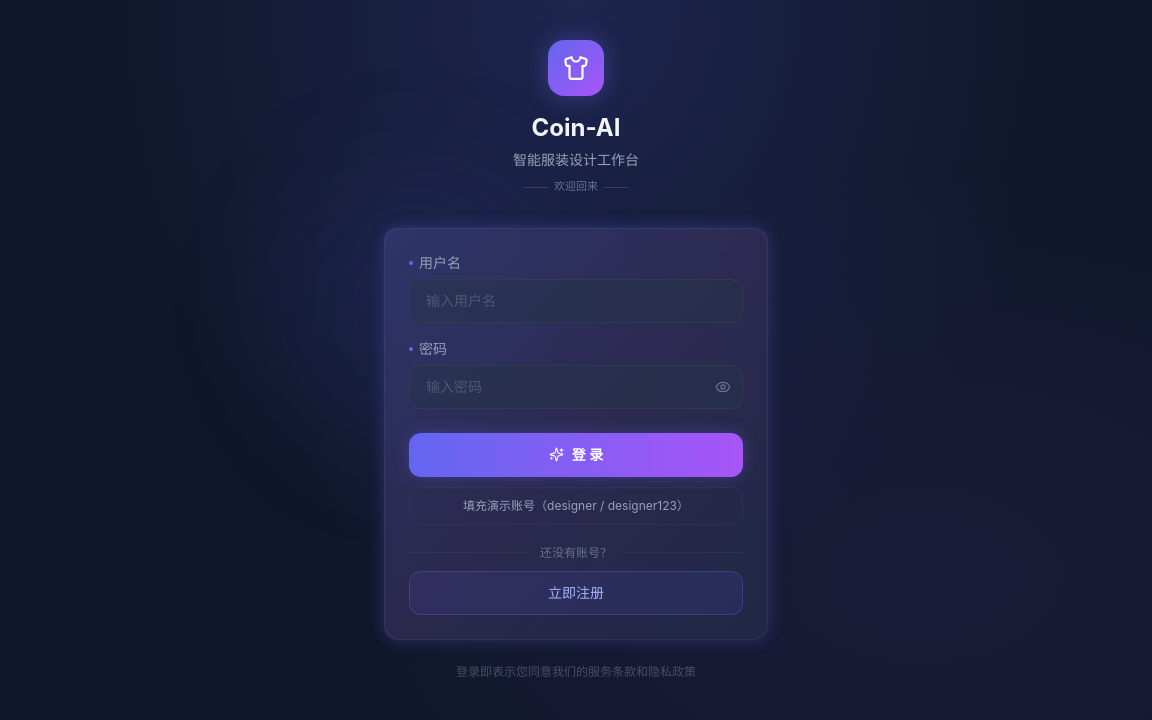
Test case: Login › fillDemo button populates fields with demo credentials
Click the button "填充演示账号（designer / designer123）" at (576, 506), box [409,487,743,525]
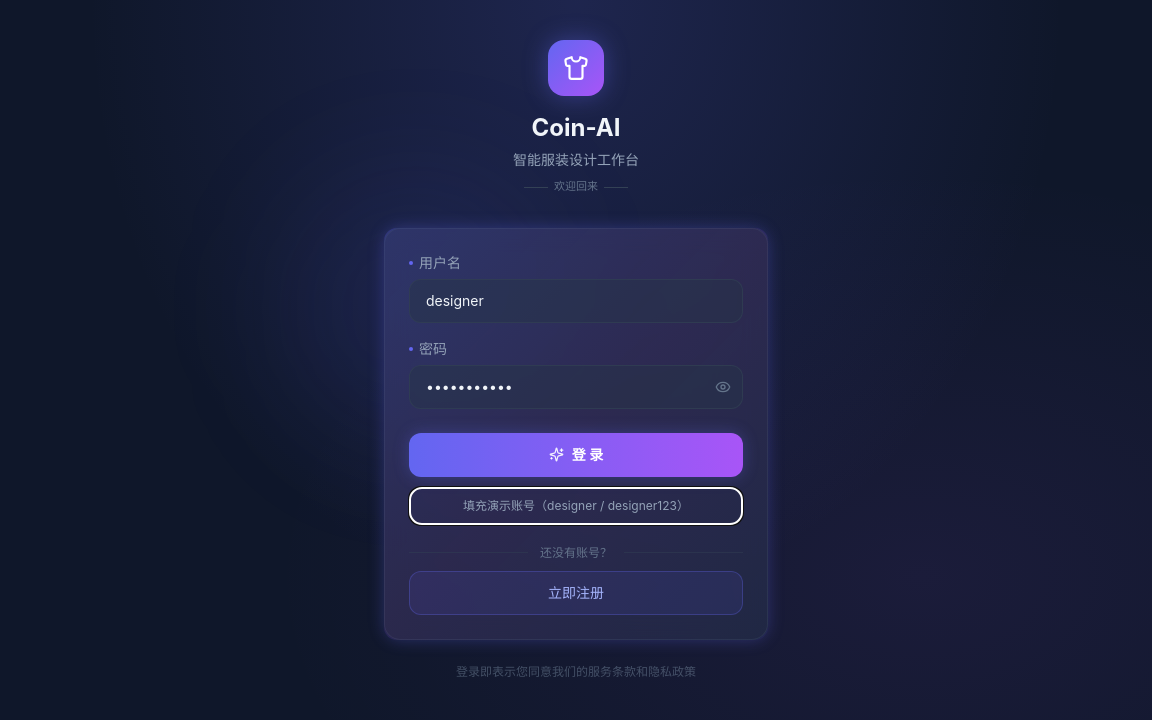
Check: the field with placeholder "输入用户名" holds "designer", box [409,279,743,323]
Check: the password field with placeholder "输入密码" holds "designer123", box [409,365,743,409]
